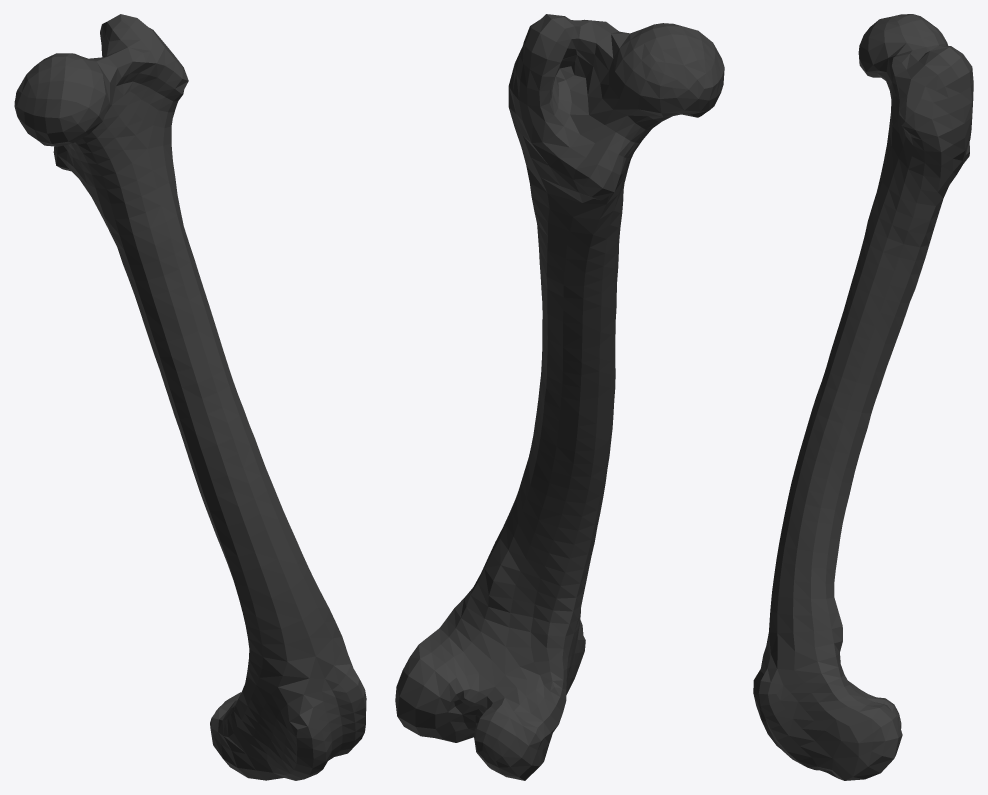
Rendered from Femur.glb.
3 renders of one model, left to right at view 1: azimuth 30°, elevation 25°; view 2: azimuth 150°, elevation 25°; view 3: azimuth 270°, elevation 25°, orthographic. The views are drawn at different scales.
Visible parts, largest first — view 1: Femur; view 2: Femur; view 3: Femur.
Part boxes in pixels (<box>): Femur: <box>14,14,366,780</box>; Femur: <box>395,14,724,780</box>; Femur: <box>753,14,973,780</box>.
Size of the model in its own units: 4.44 by 10.3 by 3.03.
Materials: 1 (1 with a texture image).
